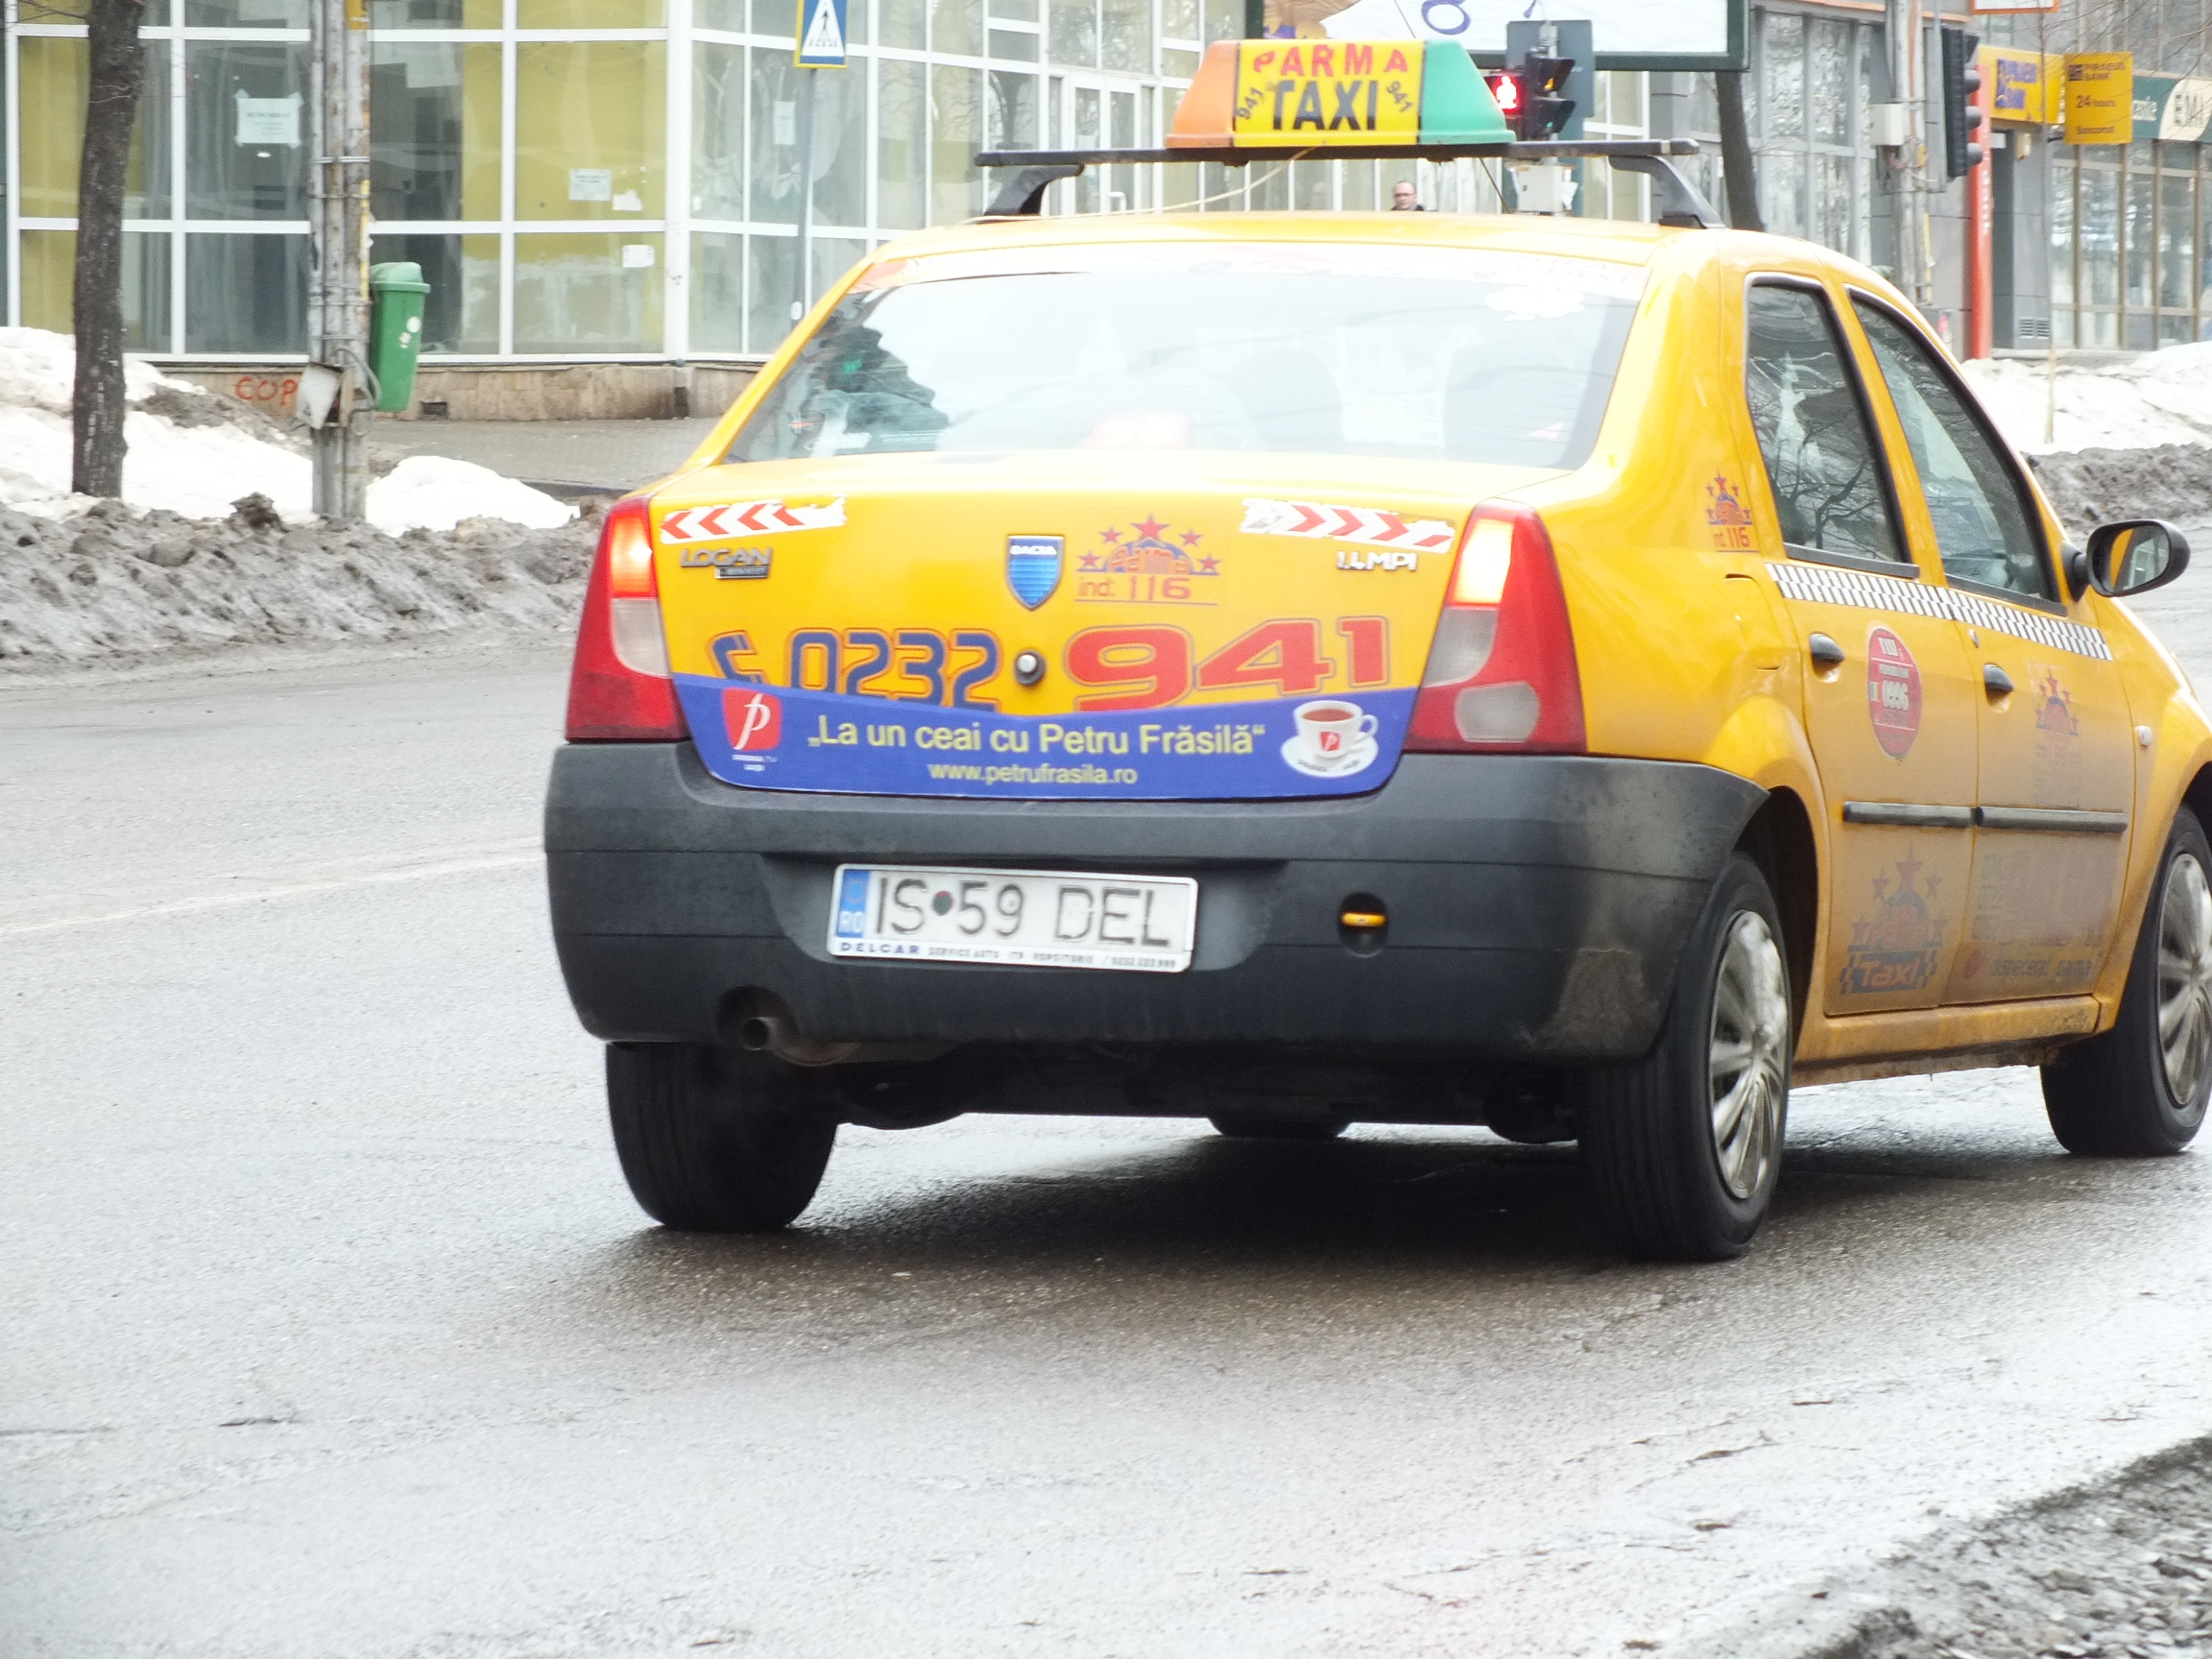IS59DEL: (825, 871, 1177, 949)
